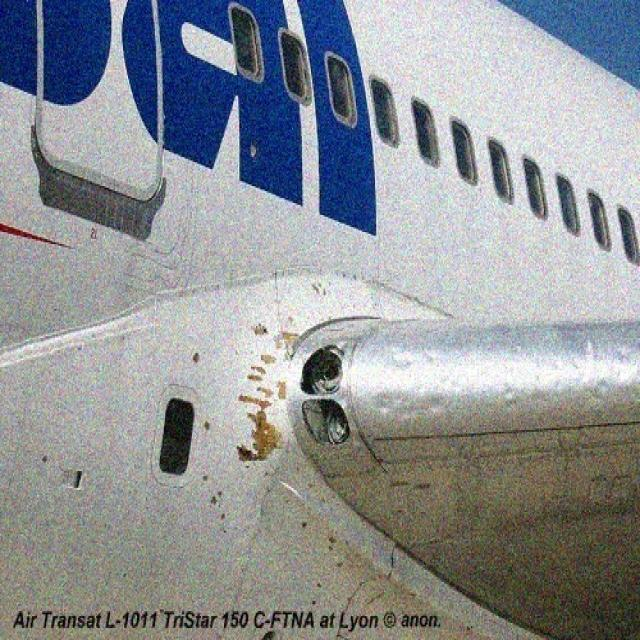dent: (374, 338, 640, 425)
